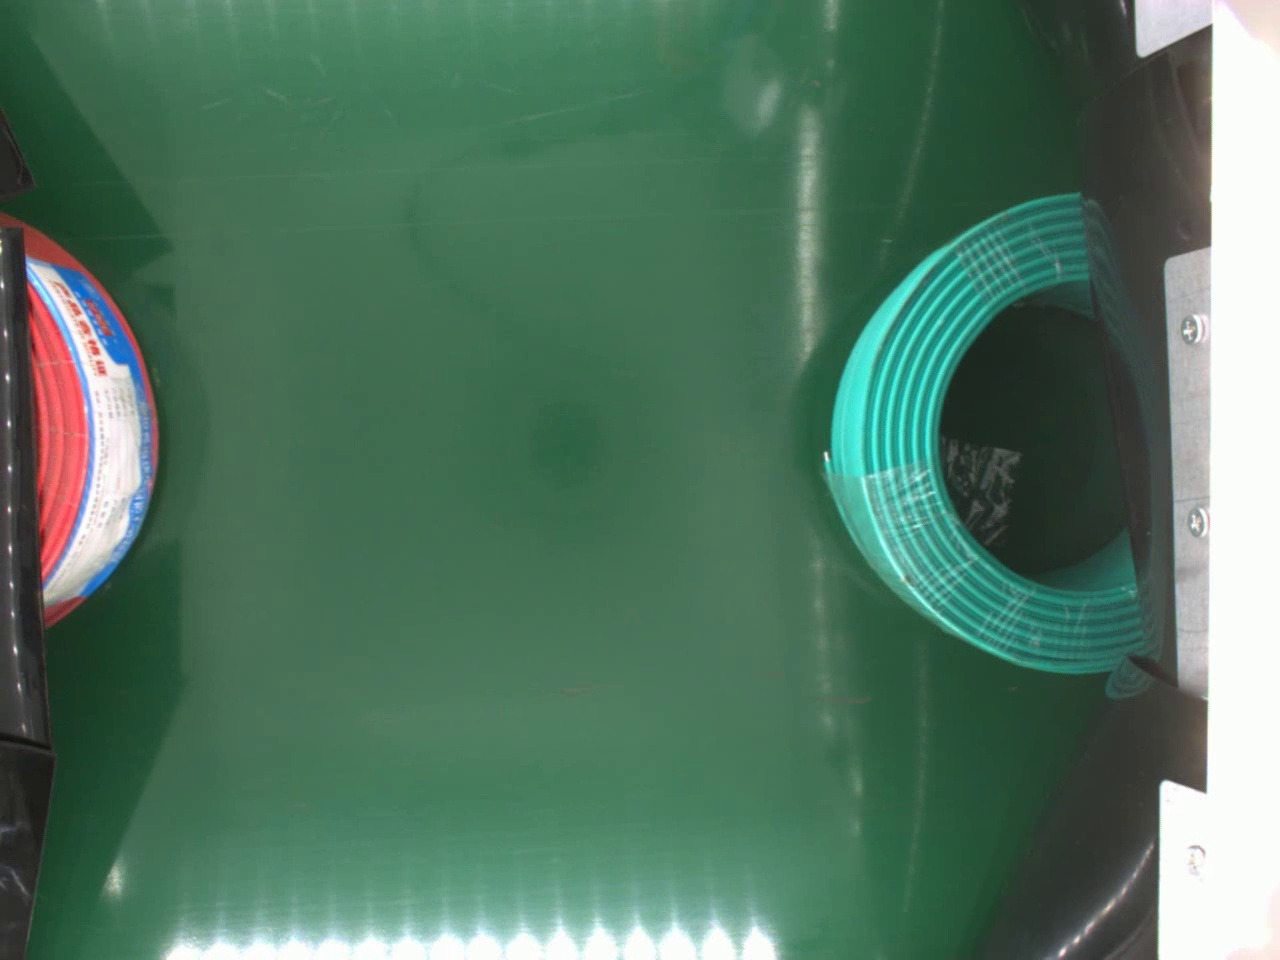green: (816, 182, 1146, 680)
